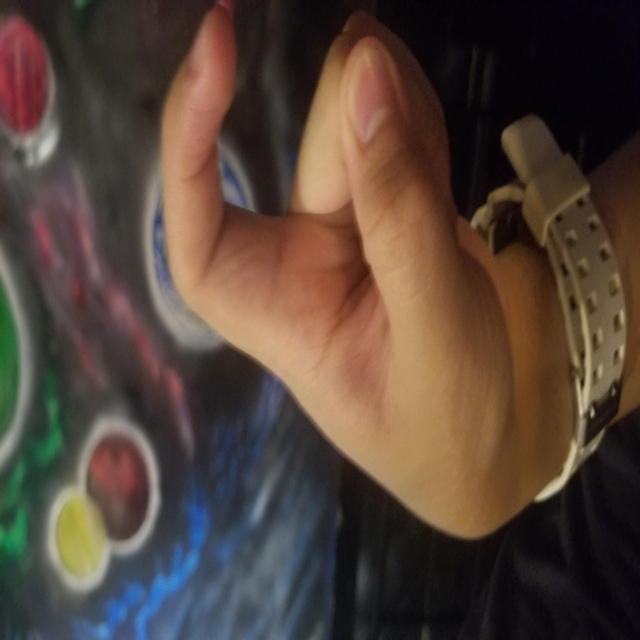X: (99, 163, 640, 511)
